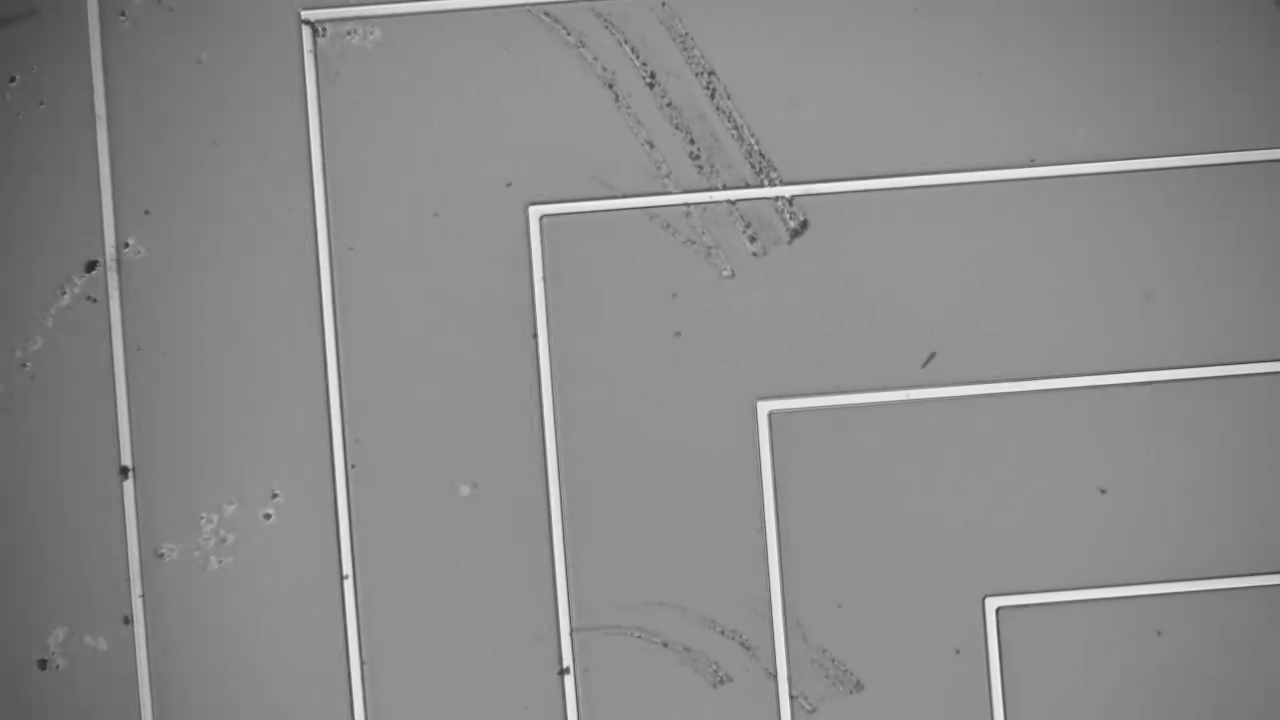scratch: (528, 12, 822, 254)
stains_enbedded: (114, 456, 144, 485), (553, 658, 581, 680)
